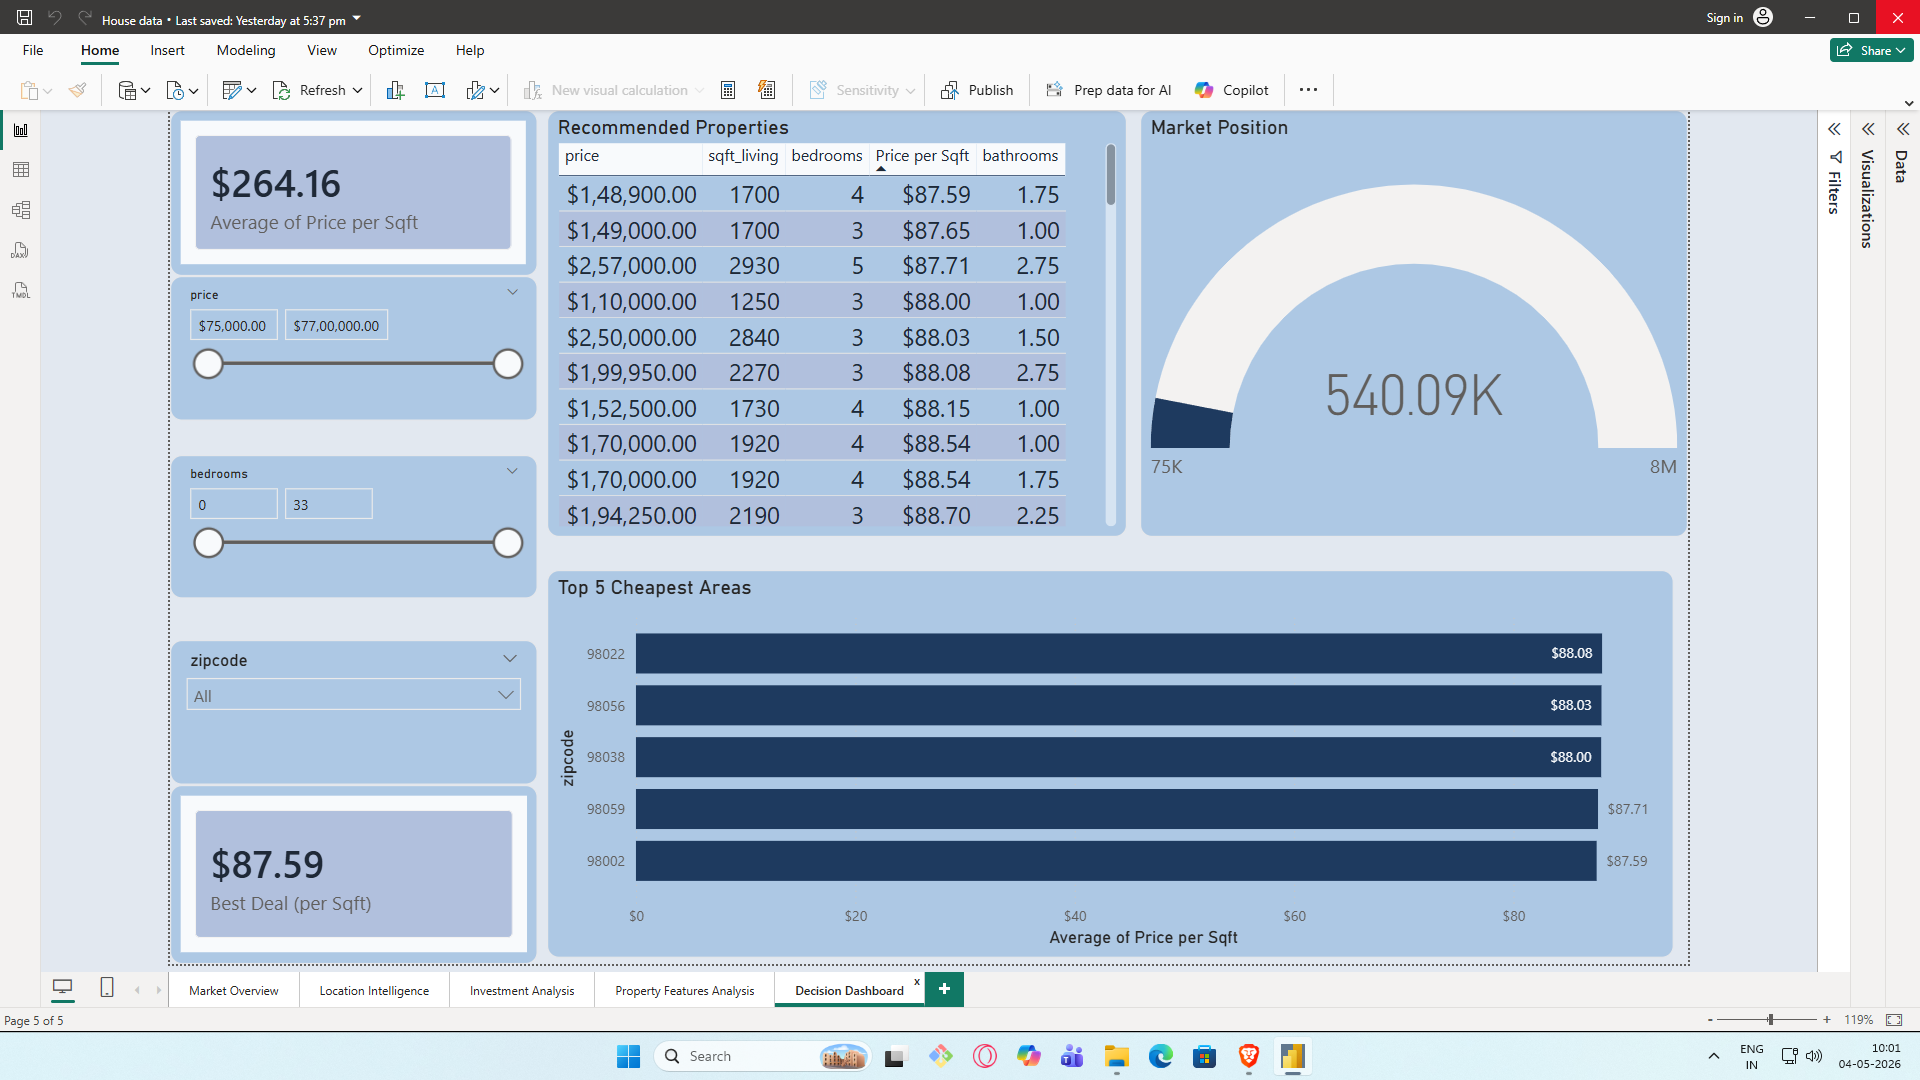

Layout of this report page (visuals, bound fields, positions):
{"tool":"powerbi","page":{"name":"Decision Dashboard","canvas":[1280,720],"ordinal":4},"visuals":[{"type":"slicer","fields":{"Values":["Data.zipcode"]},"box":[0,446.9,309.9,121.8],"z":0},{"type":"slicer","fields":{"Values":["Data.bedrooms"]},"box":[0,291,309.9,120.9],"z":1000},{"type":"slicer","fields":{"Values":["Data.price"]},"box":[0,140.1,310.3,121.6],"z":2000},{"type":"cardVisual","fields":{"Data":["Avg(Data.Price per Sqft)"]},"box":[0,0,309.9,139.7],"z":3000},{"type":"tableEx","title":"Recommended Properties","fields":{"Values":["Data.price","Data.sqft_living","Data.bedrooms","Data.Price per Sqft","Data.bathrooms"]},"box":[318.1,0,489.2,359.9],"z":4000},{"type":"cardVisual","fields":{"Data":["Data.Best Deal"]},"box":[0,569,310.3,150.8],"z":5000},{"type":"clusteredBarChart","title":"Top 5 Cheapest Areas","fields":{"Y":["Avg(Data.Price per Sqft)"],"Category":["Data.zipcode"]},"box":[318.1,388.1,950.3,326.8],"z":6000},{"type":"gauge","title":"Market Position","fields":{"Y":["Data.Selected Avg Price"],"MinValue":["Data.Min Price"],"MaxValue":["Data.Max Price"]},"box":[818,0,462,359.9],"z":7000}]}

Visuals, with their boxes on the page's 1280x720 design canvas (x1, y1, x2, y2). These are canvas units, not pixel positions in the 1920x1080 screenshot, which may show the page scaled, cropped or inside an application window:
slicer - Data.zipcode: box=[0, 447, 310, 569]
slicer - Data.bedrooms: box=[0, 291, 310, 412]
slicer - Data.price: box=[0, 140, 310, 262]
cardVisual - Avg(Data.Price per Sqft): box=[0, 0, 310, 140]
"Recommended Properties" tableEx: box=[318, 0, 807, 360]
cardVisual - Data.Best Deal: box=[0, 569, 310, 720]
"Top 5 Cheapest Areas" clusteredBarChart: box=[318, 388, 1268, 715]
"Market Position" gauge: box=[818, 0, 1280, 360]
